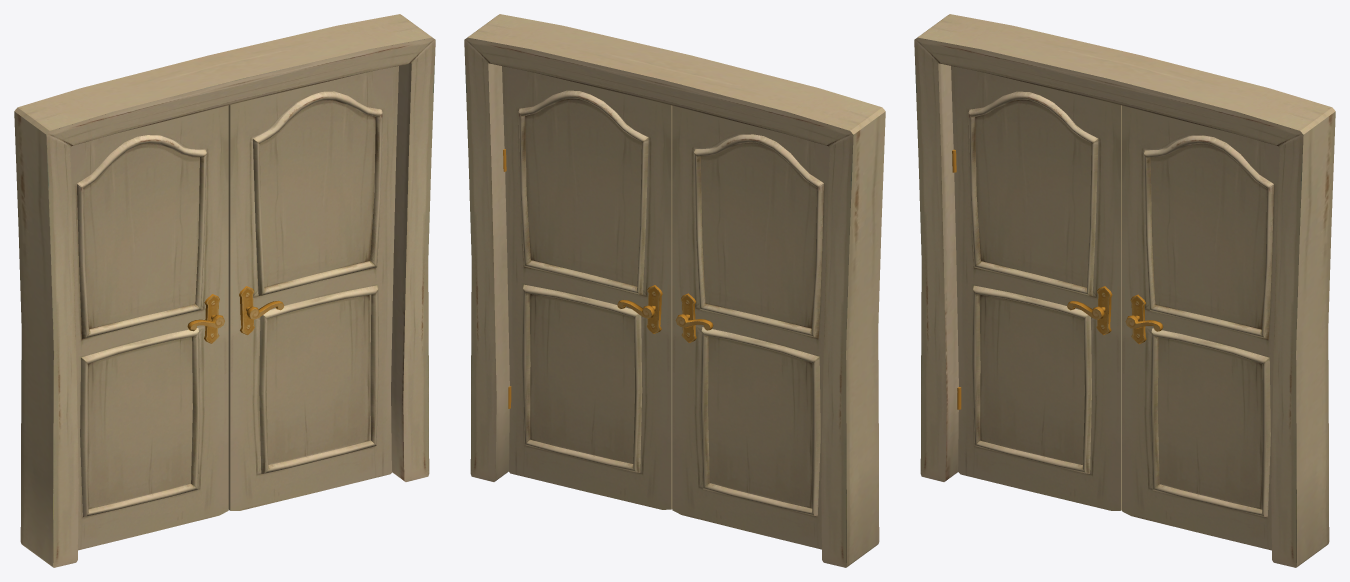
Rendered from double-door.fbx.
The picture shows the model from 3 angles, left to right: view 1: azimuth 30°, elevation 25°; view 2: azimuth 150°, elevation 25°; view 3: azimuth 330°, elevation 25°; orthographic projection.
Visible parts, largest first — view 1: Object_8, Object_6, Object_4; view 2: Object_8, Object_6, Object_4; view 3: Object_6, Object_8, Object_4.
Boxes of the visible parts, x1,y1,x2,y2 form: Object_8: [228, 66, 398, 510]; Object_6: [70, 105, 228, 550]; Object_4: [14, 14, 435, 567]; Object_8: [502, 66, 672, 509]; Object_6: [672, 105, 829, 549]; Object_4: [464, 14, 885, 567]; Object_6: [951, 66, 1121, 510]; Object_8: [1122, 105, 1279, 550]; Object_4: [914, 14, 1335, 567].
Bounding box in the file's own units: 515 × 561 × 73.75.
Materials: 3 (3 with a texture image).
